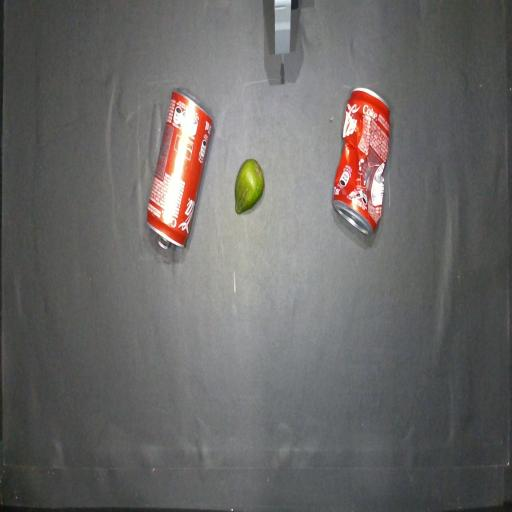higo: (235, 159, 264, 214)
lata: (147, 88, 213, 249)
lata_defectuoso: (332, 88, 390, 234)
